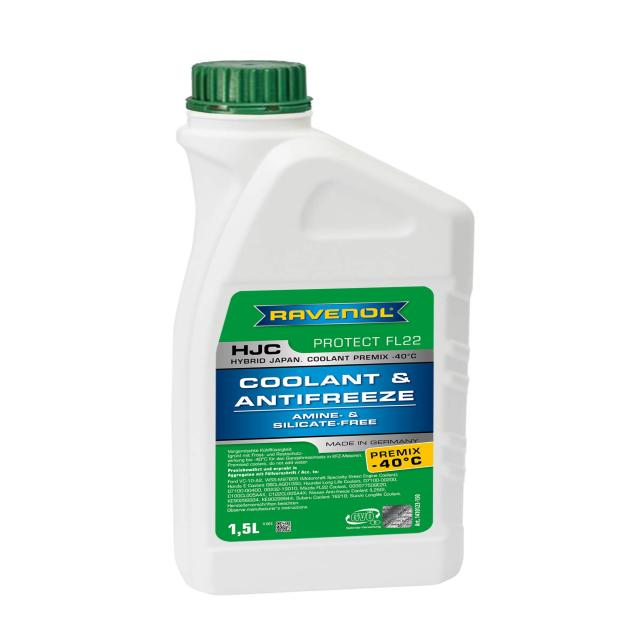coolant: (161, 52, 481, 599)
